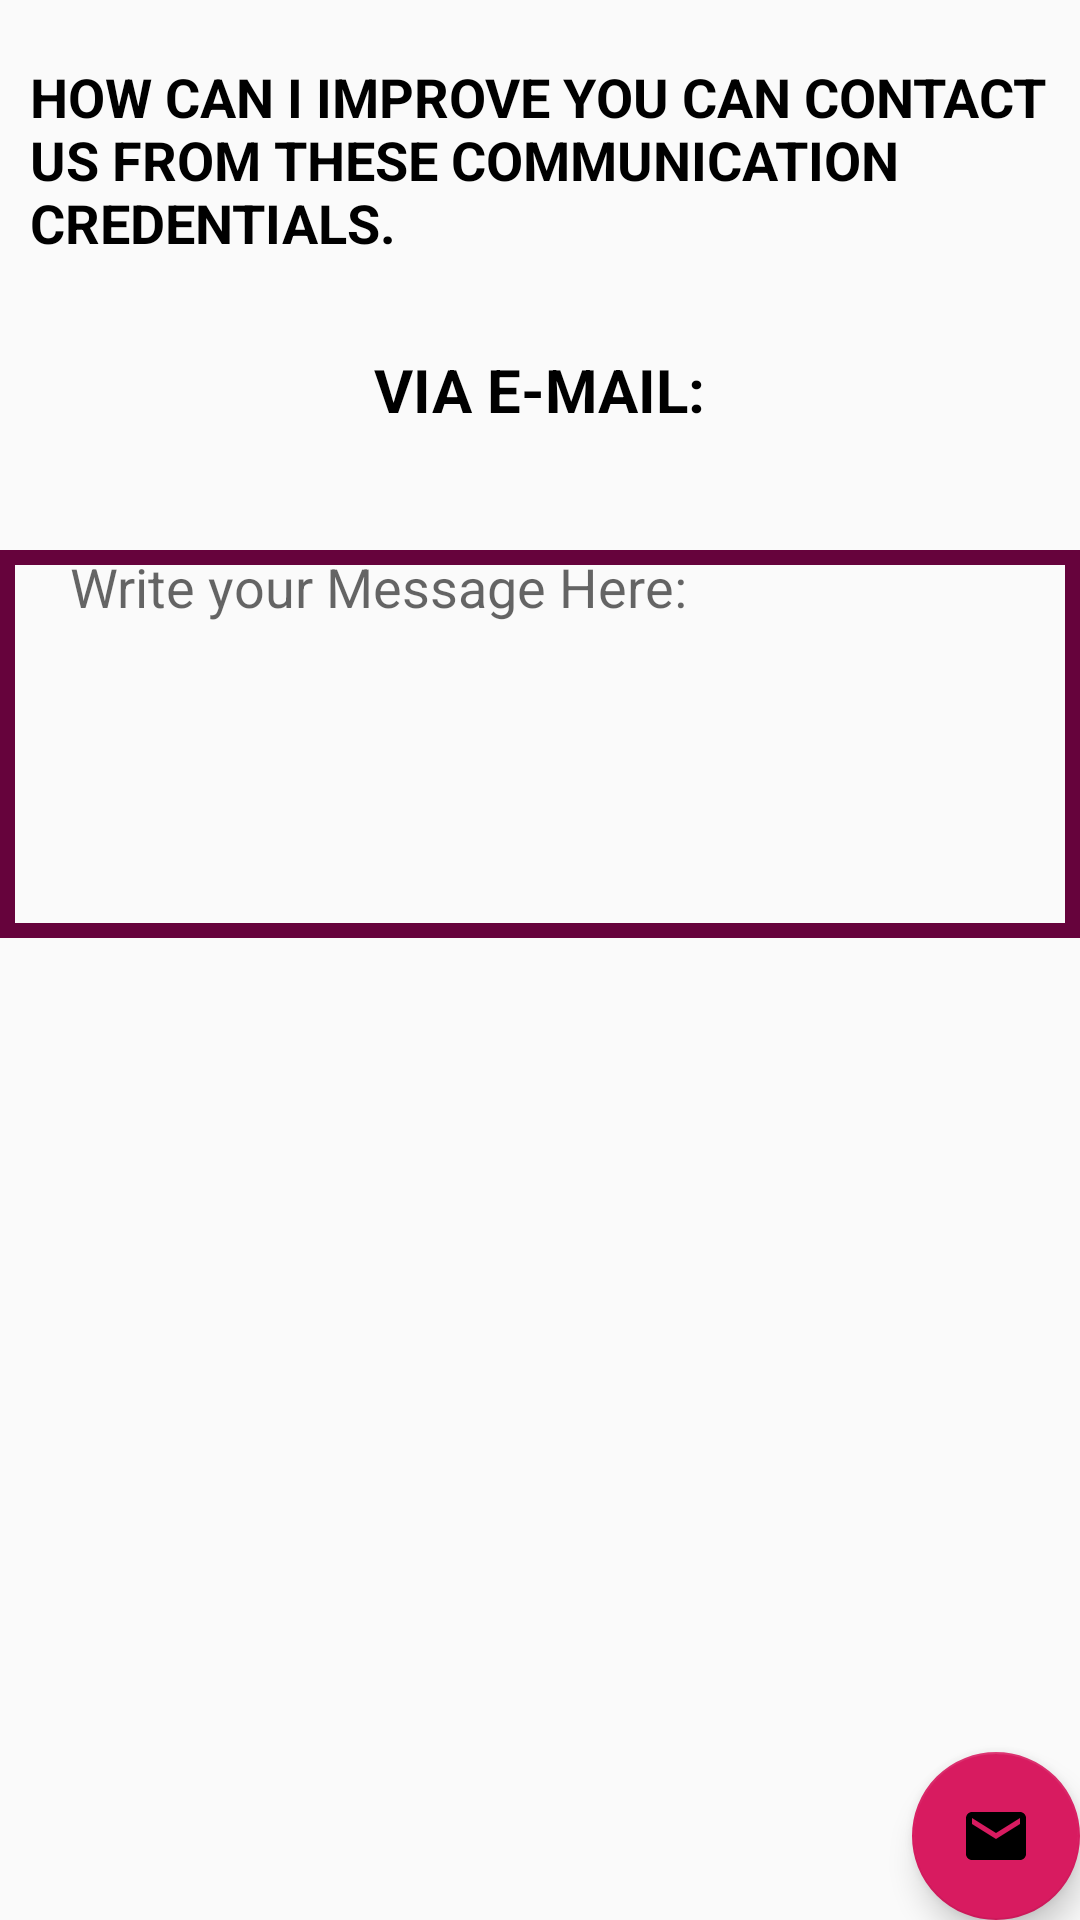

Where to tap for icons on this 1080×1920 app screen, as (x,y):
email: (996,1836)
